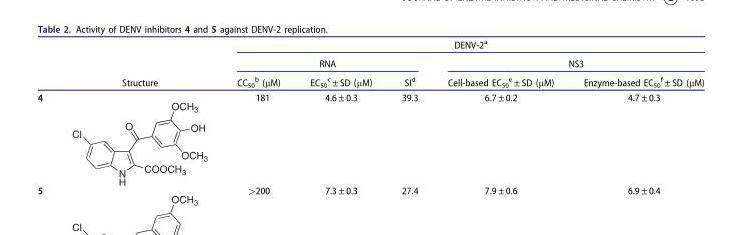table: (37, 37, 703, 195)
table column: (432, 37, 568, 195), (568, 37, 703, 195), (81, 37, 196, 195), (196, 37, 294, 195), (294, 37, 386, 195), (386, 37, 432, 195), (37, 37, 81, 195)
table column header: (37, 37, 703, 89)
table row: (37, 89, 703, 143), (37, 143, 703, 195), (37, 53, 703, 71), (37, 71, 703, 89), (37, 37, 703, 53)
table spanning cell: (196, 37, 703, 53), (81, 37, 196, 89), (432, 53, 703, 71), (196, 53, 432, 71)
